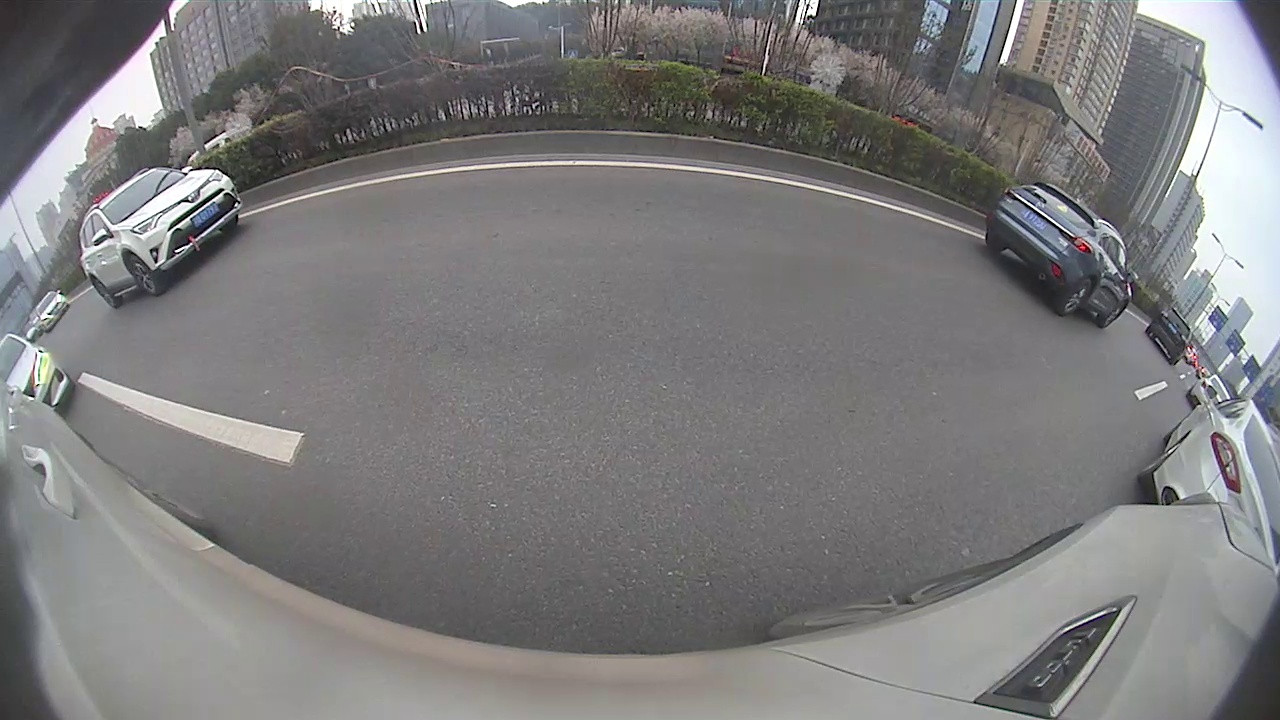car: (1133, 383, 1278, 573), (79, 163, 245, 311), (983, 179, 1139, 330), (1144, 309, 1195, 366)
front: (123, 252, 159, 296), (1102, 301, 1127, 327)
rear: (1055, 280, 1095, 315)
